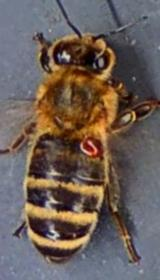varroa_mite: (72, 124, 108, 165)
